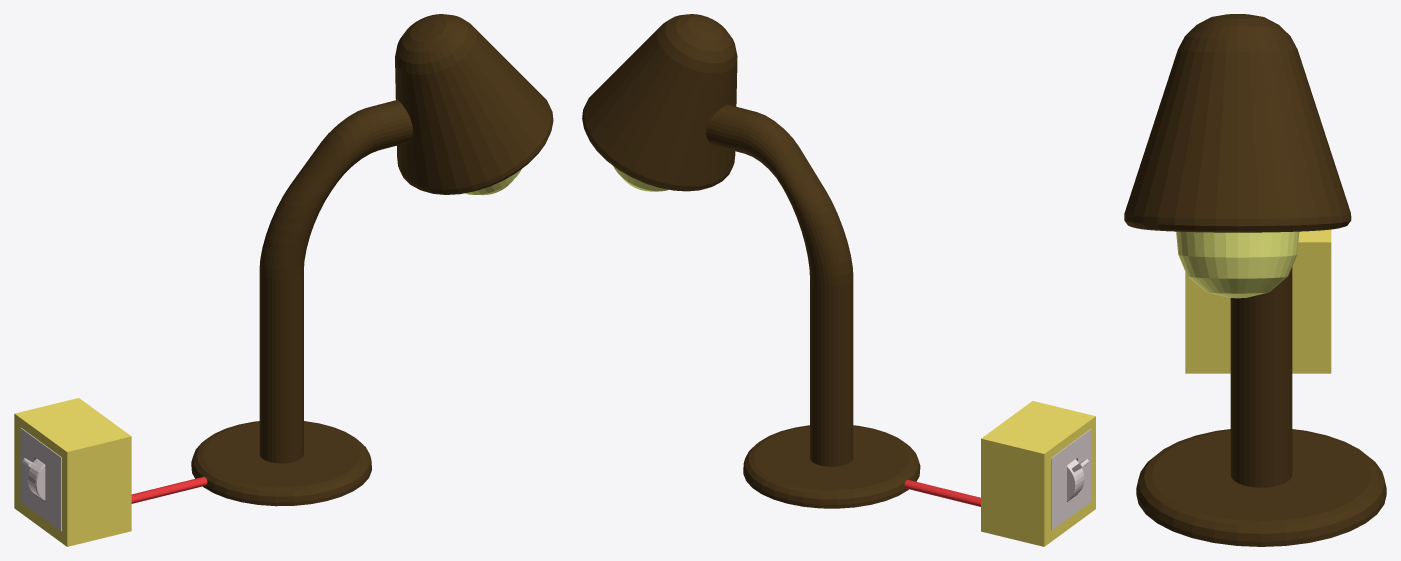
Rendered from 10. Interruptor.fbx.
The picture shows the model from 3 angles, left to right: view 1: azimuth 30°, elevation 25°; view 2: azimuth 150°, elevation 25°; view 3: azimuth 270°, elevation 25°; orthographic projection. The views are drawn at different scales.
Parts seen in each view (by area): view 1: Circle.001; view 2: Circle.001; view 3: Circle.001.
Part boxes in pixels (x1=…): Circle.001: x1=14, y1=14, x2=553, y2=546; Circle.001: x1=582, y1=14, x2=1095, y2=546; Circle.001: x1=1124, y1=14, x2=1386, y2=546.
Bounding box in the file's own units: 1580 × 1239 × 509.
